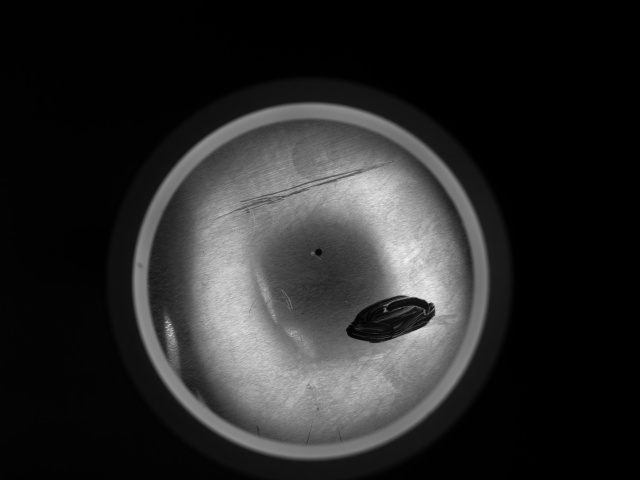ca_shang: (205, 155, 403, 223)
zang_wu: (343, 293, 436, 345)
zhen_kong: (311, 246, 327, 258)
